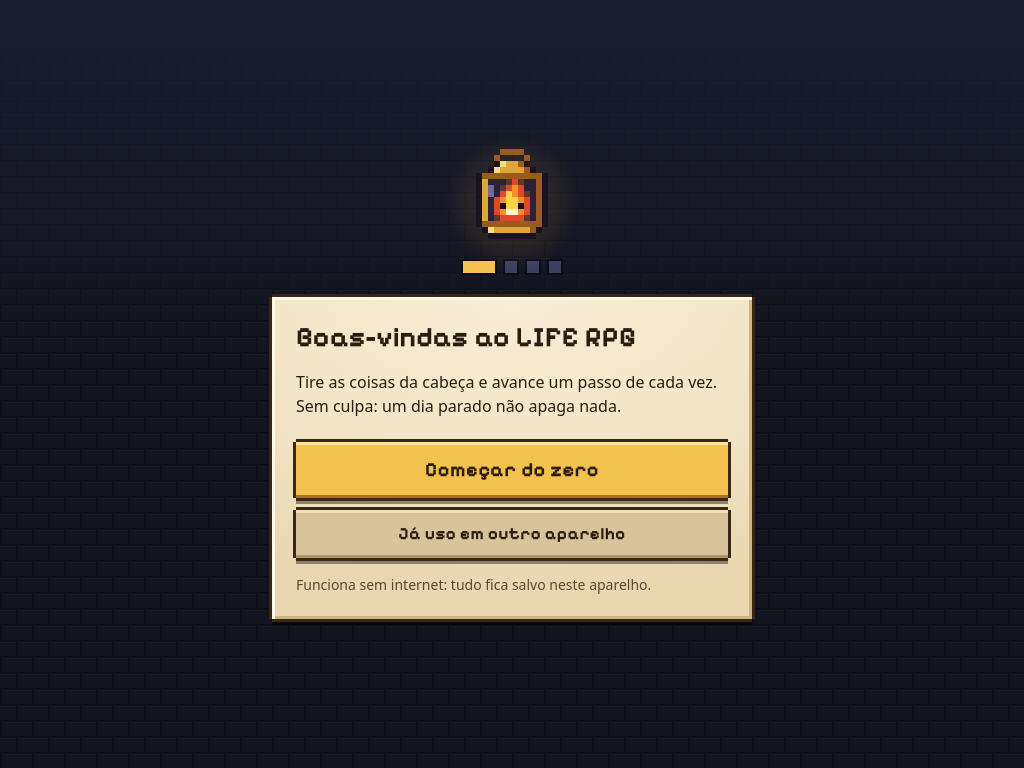
Test: Onboarding › access code: a synced profile that is not onboarded continues to step 1 with its name
Click the button "Já uso em outro aparelho". click: (512, 534)
box: [296, 510, 728, 558]
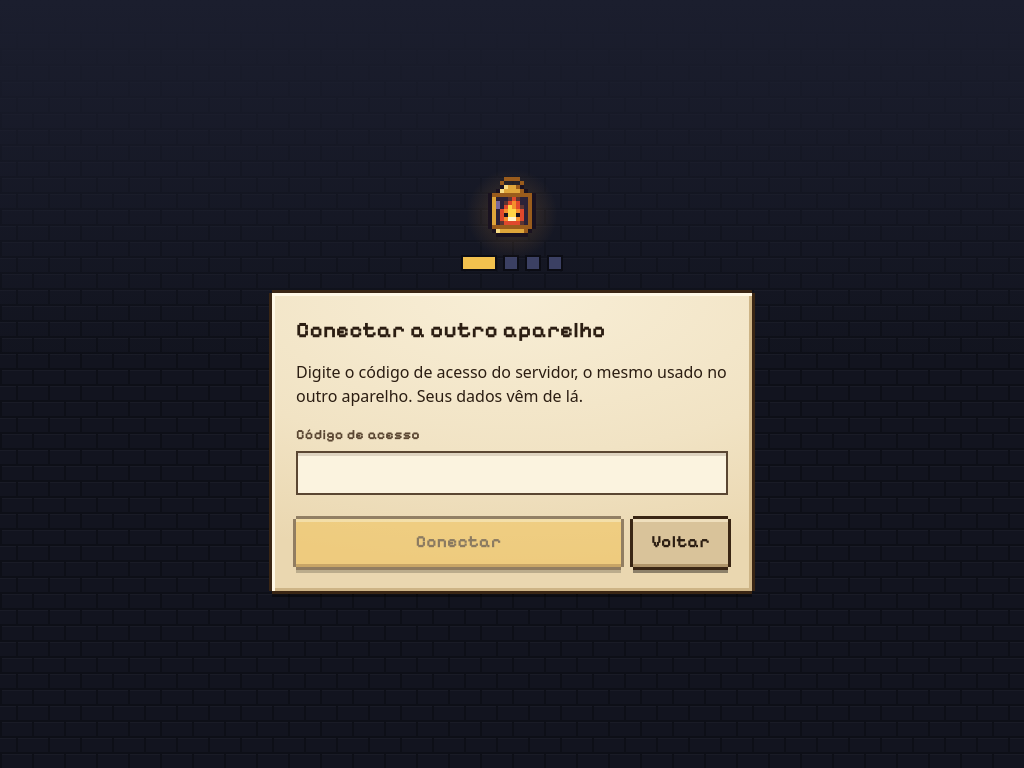
Type "tok" into the field labelled "Código de acesso". click: (512, 473)
box: [296, 451, 728, 495]
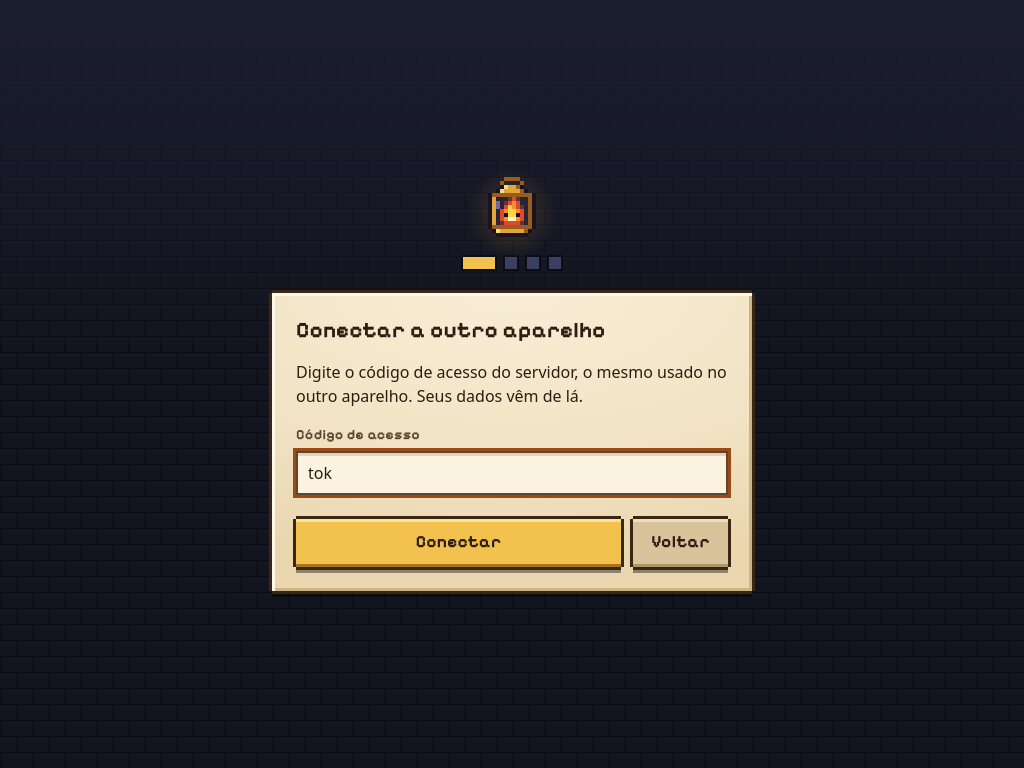
Click the button "Conectar". click: (459, 543)
box: [296, 519, 621, 567]
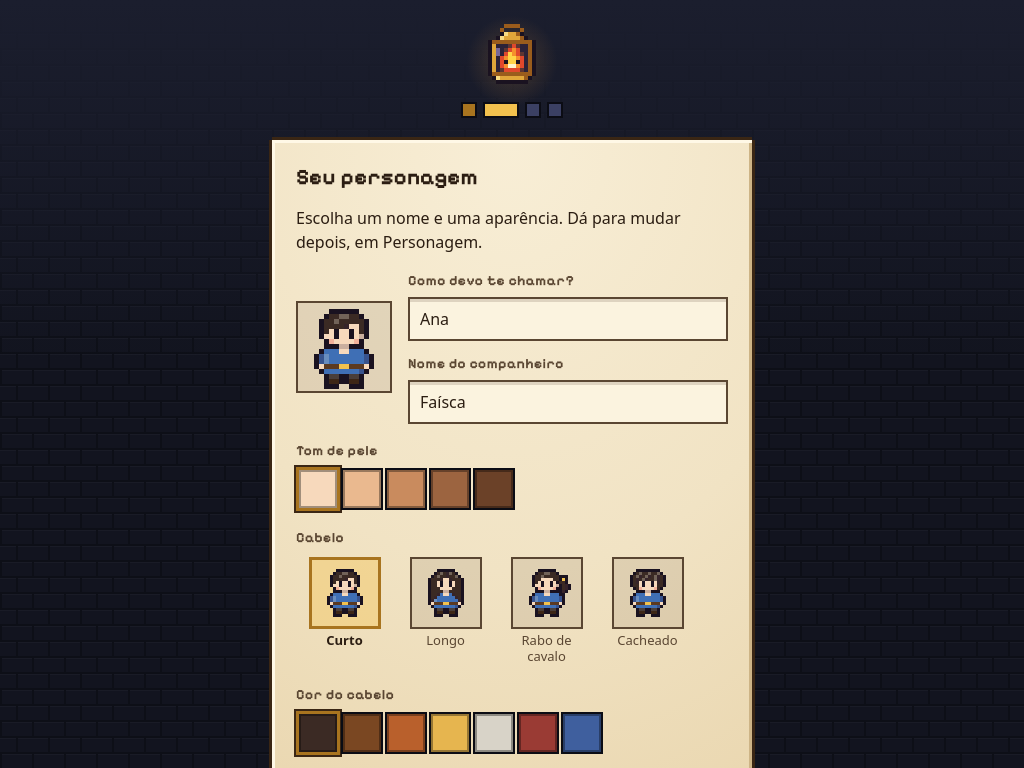
expect the field labelled "Como devo te chamar?" holds "Ana": met, box [408, 297, 728, 341]
